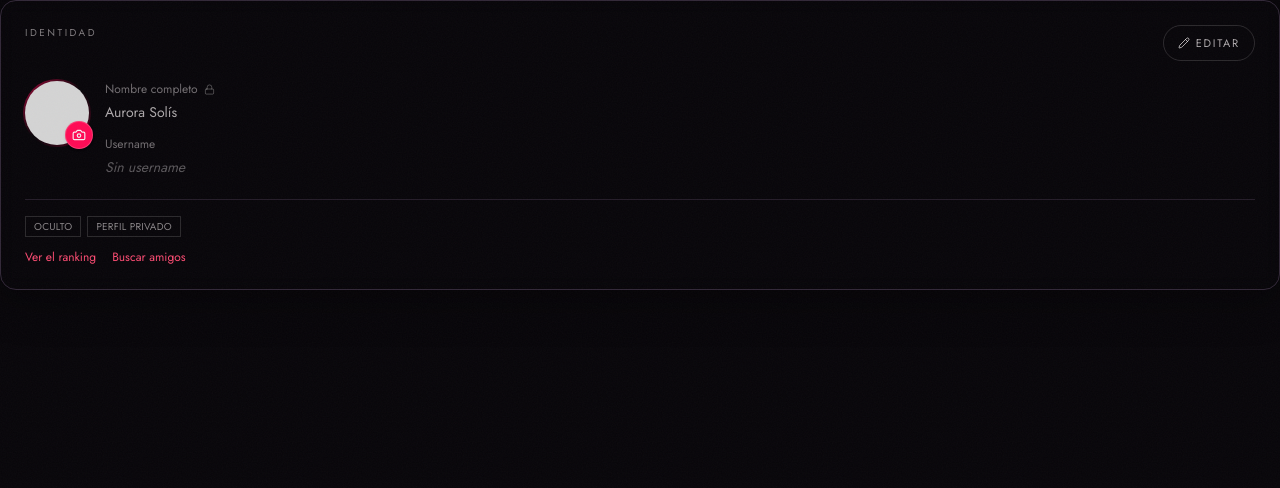
Test: IdentitySection › a user with no username › disables the opt-in toggle
Click the button with aria-label "editar username": (1209, 43) [1163,25,1255,61]
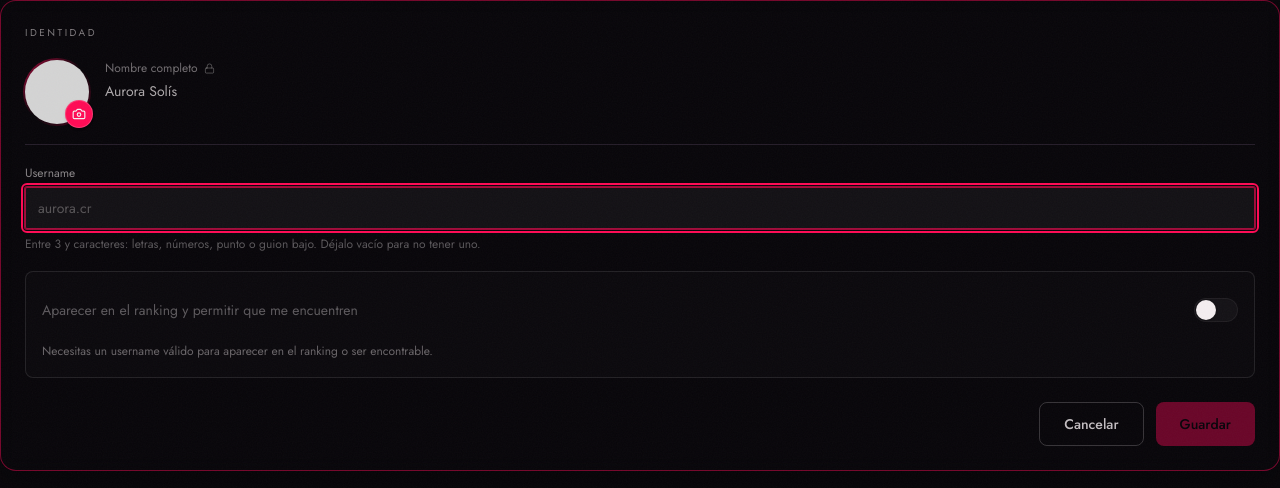
Expected: the checkbox labelled "Aparecer en el ranking y permitir que me encuentren" is disabled, [42,298,1238,322]
Expected: the checkbox labelled "Aparecer en el ranking y permitir que me encuentren" is not checked, [42,298,1238,322]
